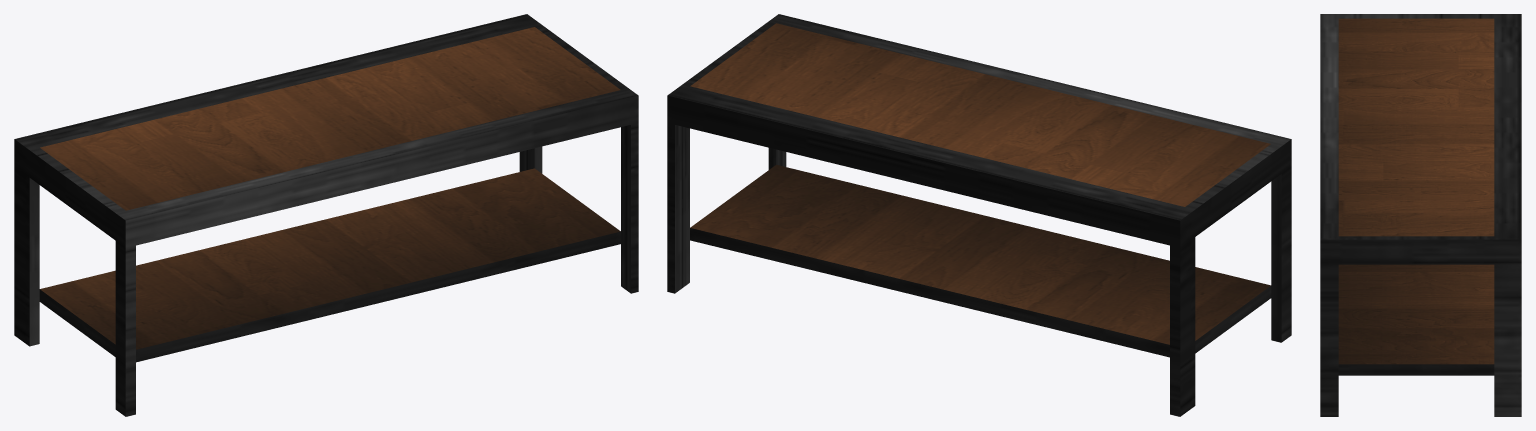
The model's file is Coffee Table.fbx.
3 renders of one model, left to right at view 1: azimuth 30°, elevation 25°; view 2: azimuth 150°, elevation 25°; view 3: azimuth 270°, elevation 25°, orthographic. The views are drawn at different scales.
Visible parts, largest first — view 1: pCube3; view 2: pCube3; view 3: pCube3.
Part boxes in pixels (x1=…): pCube3: x1=14, y1=14, x2=638, y2=416; pCube3: x1=667, y1=14, x2=1291, y2=416; pCube3: x1=1320, y1=14, x2=1521, y2=416.
Bounding box in the file's own units: 11.61 × 4.25 × 4.37.
Materials: 2 (2 with a texture image).
